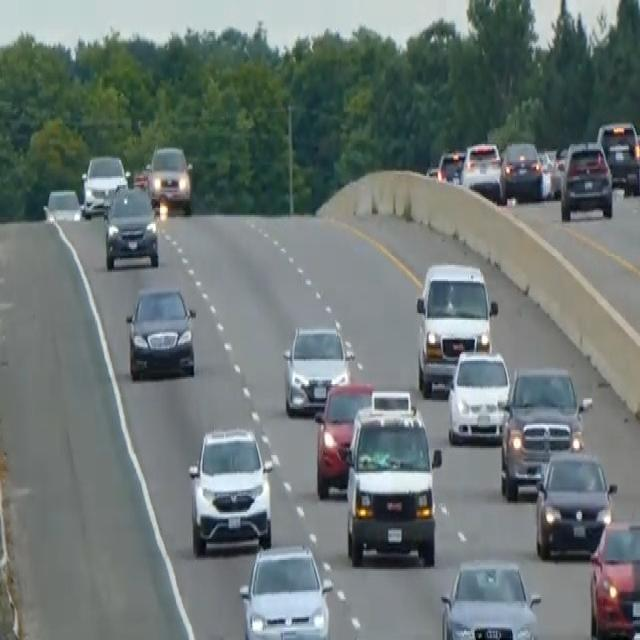car: (499, 362, 591, 500), (187, 423, 273, 555), (238, 540, 333, 638), (533, 446, 616, 558), (439, 556, 541, 638), (313, 378, 373, 498), (125, 284, 197, 380), (281, 322, 352, 416), (446, 346, 511, 444), (588, 518, 639, 638), (102, 183, 159, 270), (559, 138, 613, 220), (148, 142, 193, 214), (80, 151, 128, 217), (460, 140, 506, 202), (501, 137, 544, 201), (42, 187, 81, 222), (549, 142, 569, 198), (436, 147, 463, 185), (537, 148, 554, 198)
jeep: (596, 117, 639, 194)
minivan: (343, 397, 442, 567), (415, 259, 498, 396)
